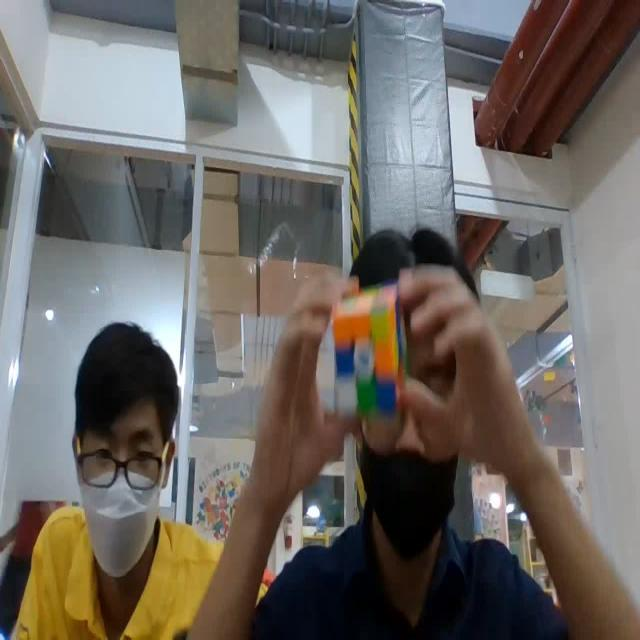Rub: (328, 288, 410, 416)
